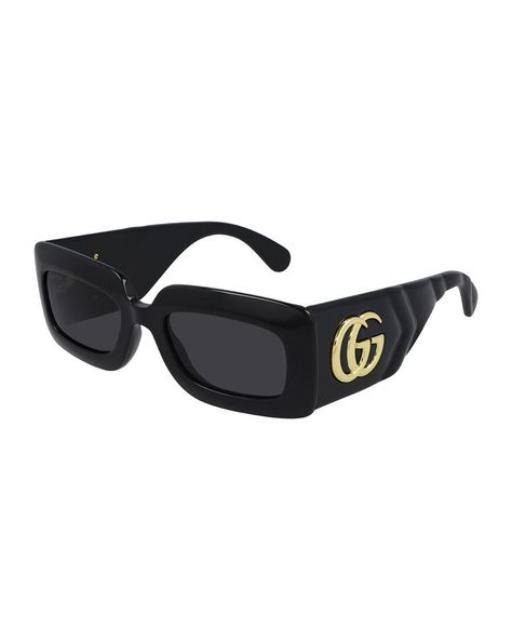Gucci: (330, 309, 398, 386)
